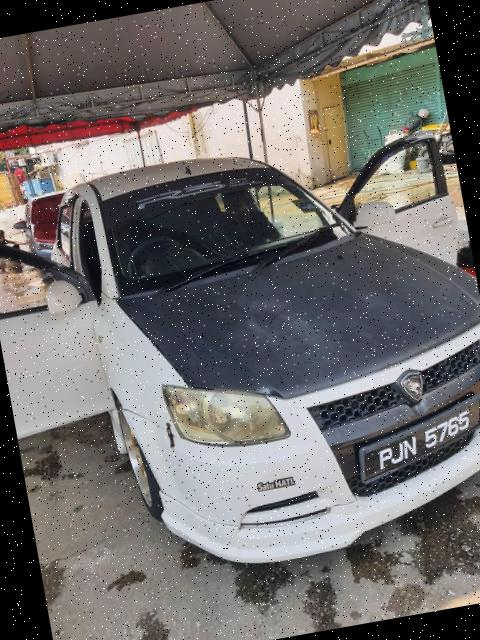License_Plate: (357, 405, 480, 485)
car: (1, 93, 480, 603)
